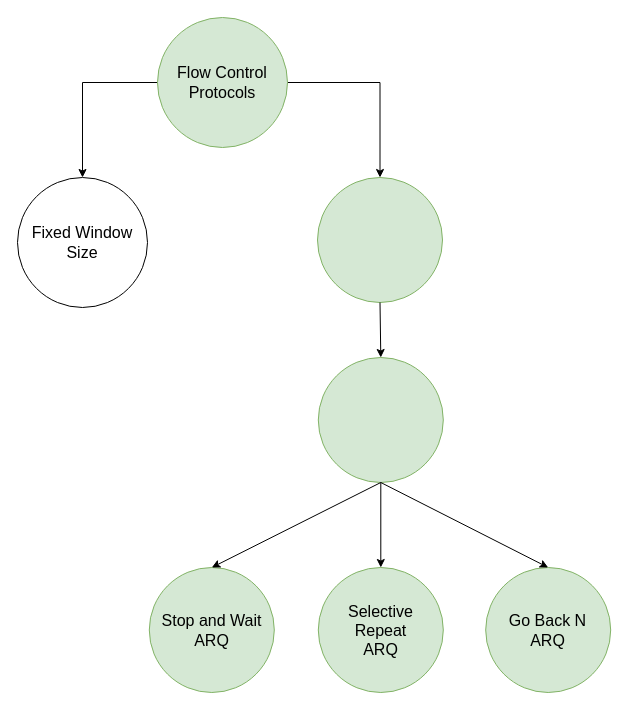
Some shapes in this 629 by 710 pixel diagram are drawn without their labels. The shapes that lost their labels are listed below. From the top down, each one's centre as x and y in pixels, then its label:
At (x=379, y=239): "Window Size".
At (x=380, y=419): "Sliding Window Flow Control".
